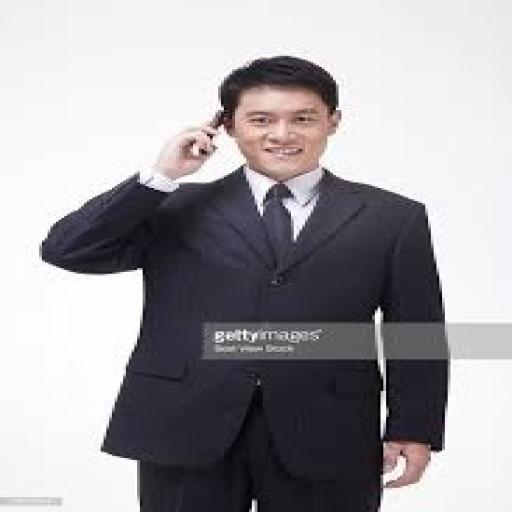calling: (36, 52, 454, 510)
